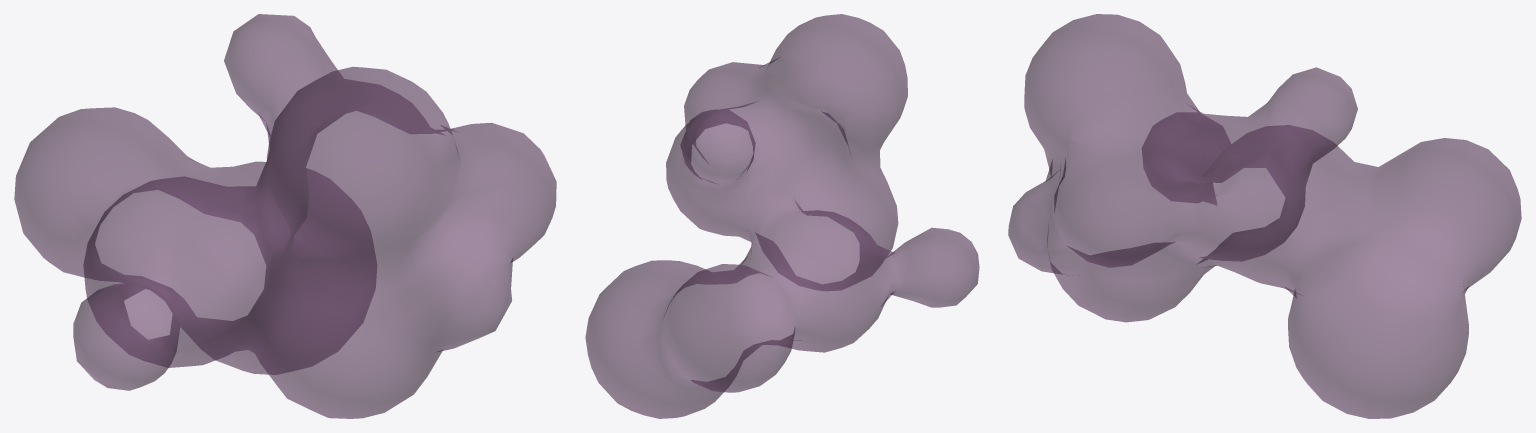
Rendered from fog-3D.fbx.
The picture shows the model from 3 angles, left to right: view 1: azimuth 30°, elevation 25°; view 2: azimuth 150°, elevation 25°; view 3: azimuth 270°, elevation 25°; orthographic projection. The views are drawn at different scales.
Parts seen in each view (by area): view 1: Mball.010; view 2: Mball.010; view 3: Mball.010.
Part boxes in pixels (x1=…): Mball.010: x1=14, y1=14, x2=556, y2=418; Mball.010: x1=585, y1=14, x2=979, y2=418; Mball.010: x1=1008, y1=14, x2=1521, y2=418.
Bounding box in the file's own units: 657 × 623 × 808.
